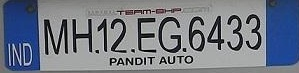character: (42, 17, 69, 56), (157, 15, 181, 54), (71, 17, 93, 54), (137, 16, 158, 53), (226, 14, 244, 51), (109, 18, 127, 54), (206, 15, 224, 51), (245, 13, 262, 51), (188, 15, 205, 52), (97, 17, 109, 53), (21, 41, 32, 66), (11, 42, 22, 66), (7, 43, 11, 68), (108, 56, 117, 66), (134, 56, 143, 66), (158, 56, 167, 65), (166, 55, 175, 64), (175, 54, 184, 63), (184, 54, 192, 64), (116, 57, 124, 66), (125, 57, 134, 65), (147, 56, 154, 65), (142, 56, 147, 65)
